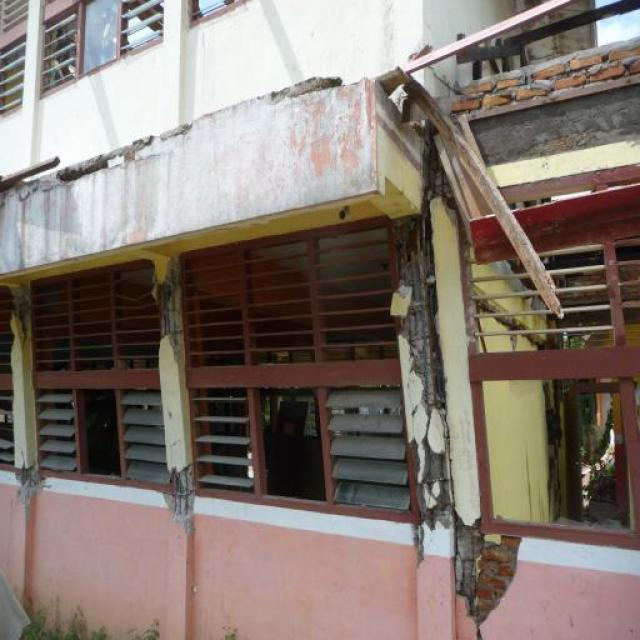D0w0: (394, 202, 446, 419), (419, 436, 450, 525), (455, 512, 482, 596), (161, 260, 182, 364), (165, 462, 195, 534), (10, 282, 31, 335), (18, 465, 41, 495)
